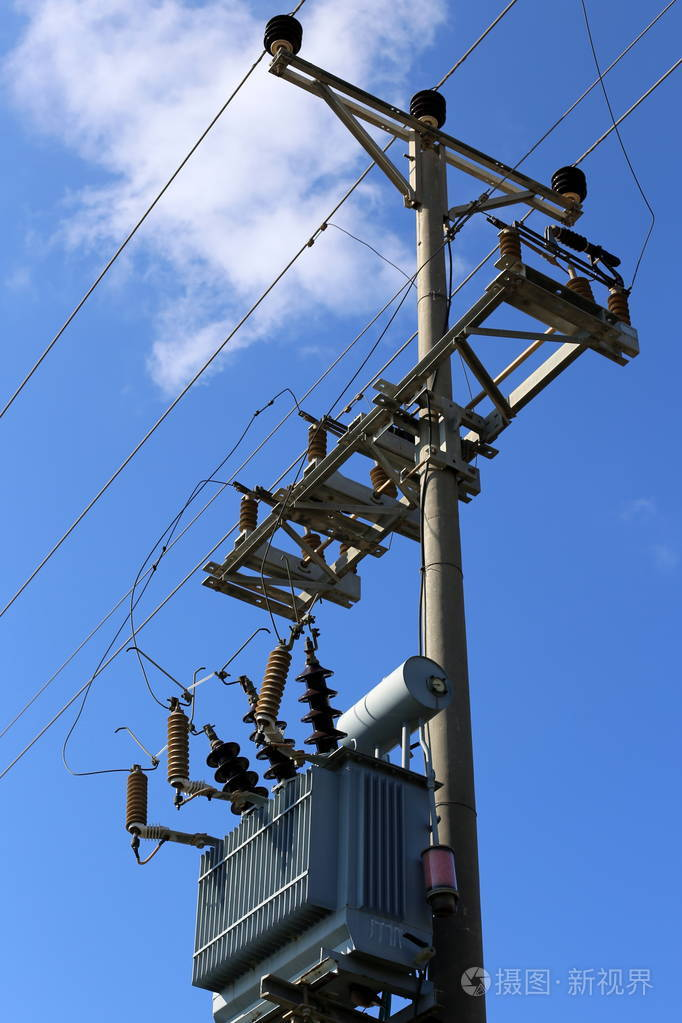insulator: (204, 743, 263, 813), (298, 667, 349, 746), (249, 723, 302, 784), (255, 651, 291, 718), (162, 711, 192, 786), (123, 772, 152, 835), (549, 162, 586, 200), (261, 15, 301, 50), (408, 90, 448, 121), (494, 228, 526, 266), (601, 291, 637, 322), (367, 467, 396, 501), (234, 499, 259, 534), (567, 274, 597, 303), (306, 426, 330, 462)
